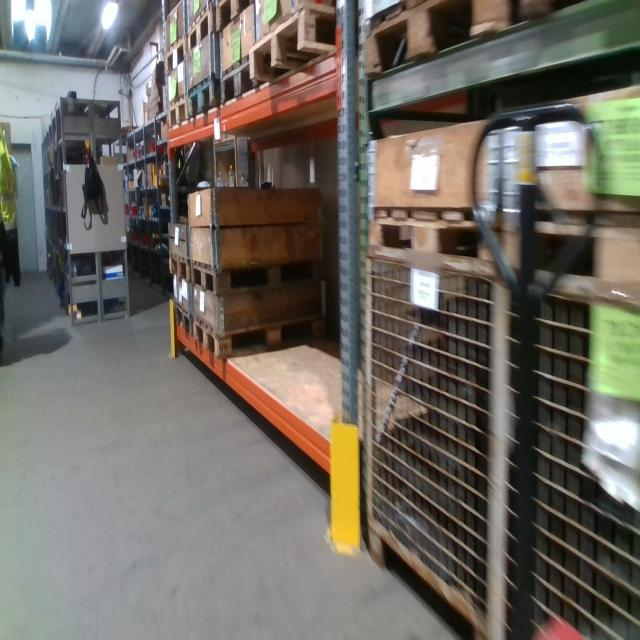pallet: (360, 200, 517, 287), (362, 4, 515, 83), (532, 200, 639, 310), (249, 2, 341, 88), (194, 312, 328, 357), (188, 255, 321, 291), (219, 51, 253, 115), (188, 70, 223, 123), (516, 6, 587, 27), (188, 6, 215, 58), (162, 29, 190, 74), (213, 5, 256, 31), (165, 89, 190, 130), (168, 243, 191, 283), (174, 304, 195, 334)
pallet_truck: (463, 102, 602, 640)
stillage: (357, 236, 499, 635), (500, 254, 639, 640)
